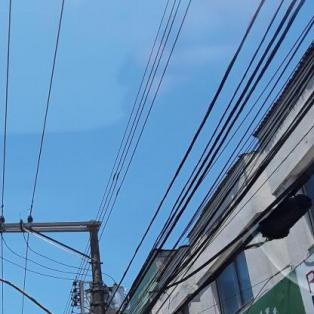Poste: (81, 216, 135, 314)
